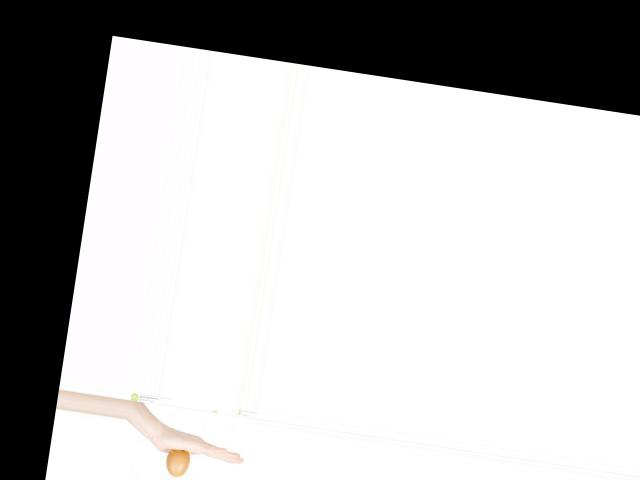egg: (165, 447, 192, 478)
